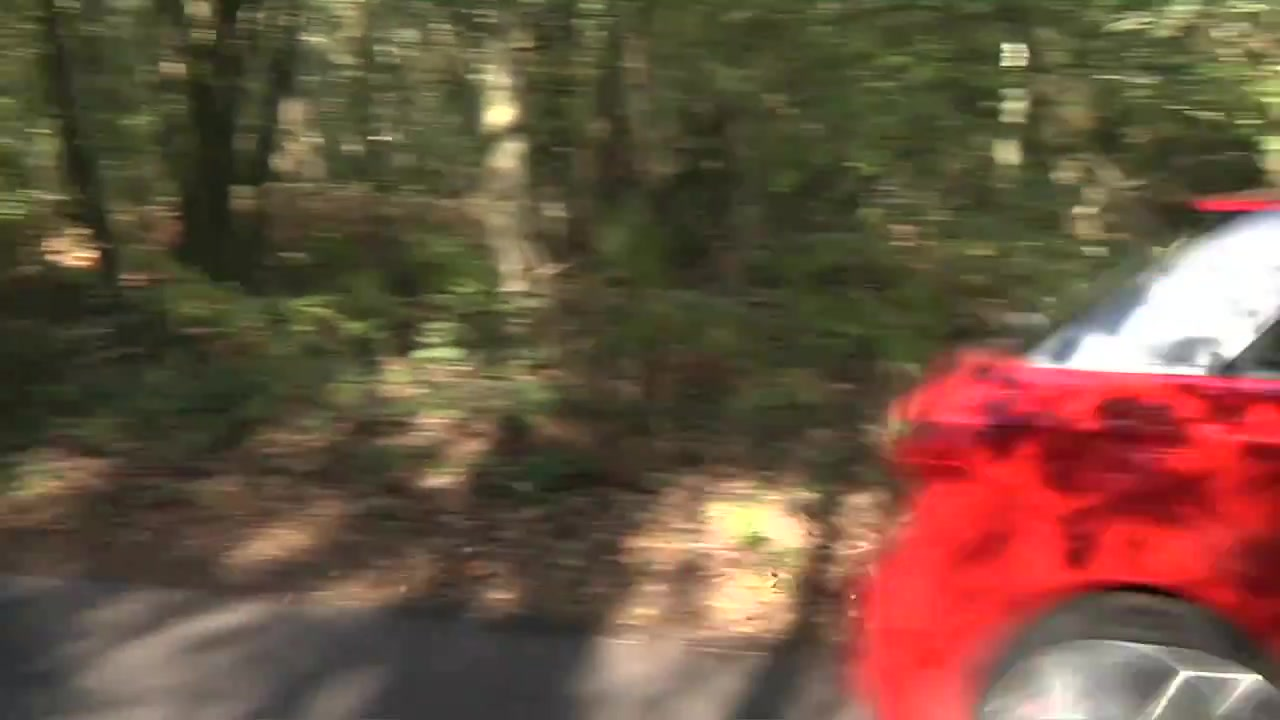car: (837, 175, 1280, 720)
